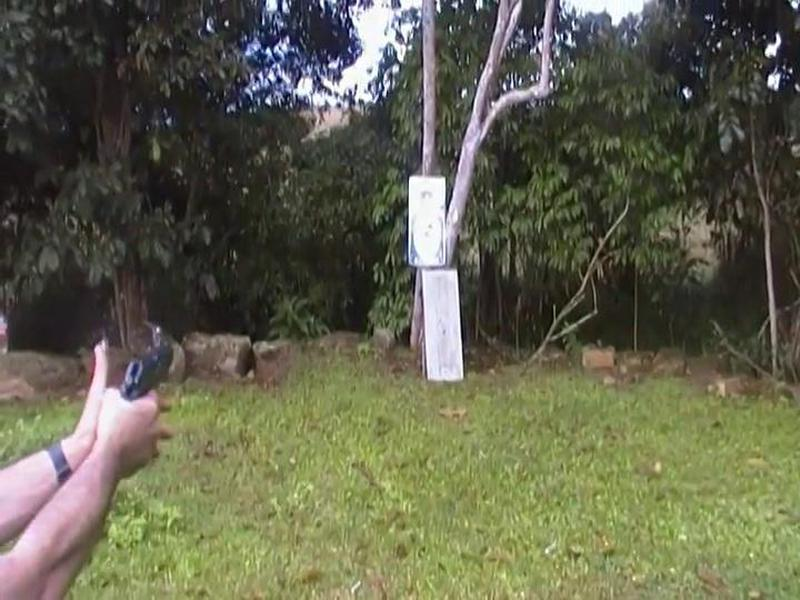Pistola: (97, 334, 200, 426)
